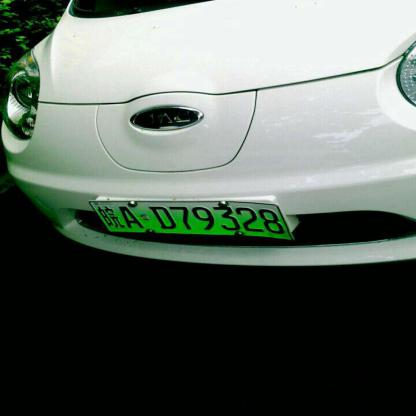lp: (89, 201, 293, 238)
